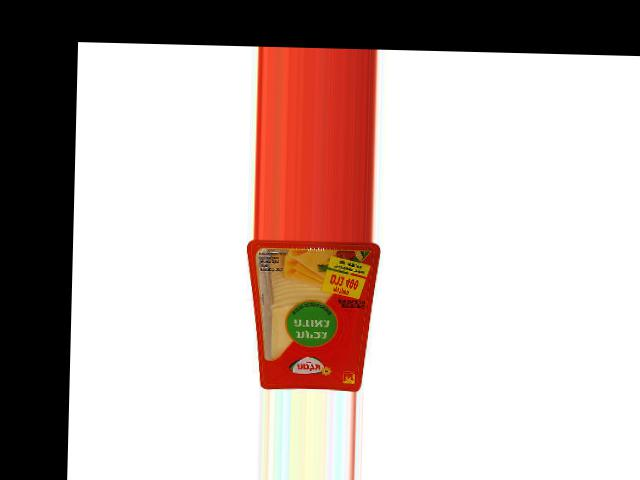cheese: (243, 238, 380, 391)
